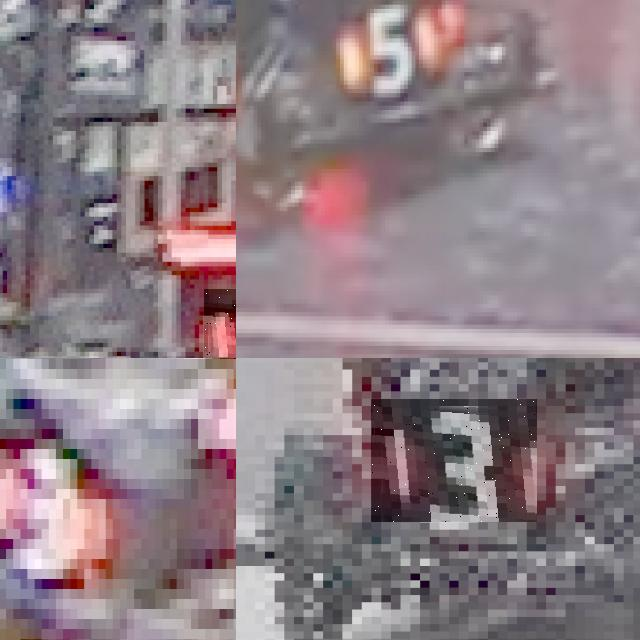R2: (203, 288, 236, 358)
R3: (371, 399, 537, 522), (0, 439, 113, 569)
R5: (336, 9, 446, 85)
